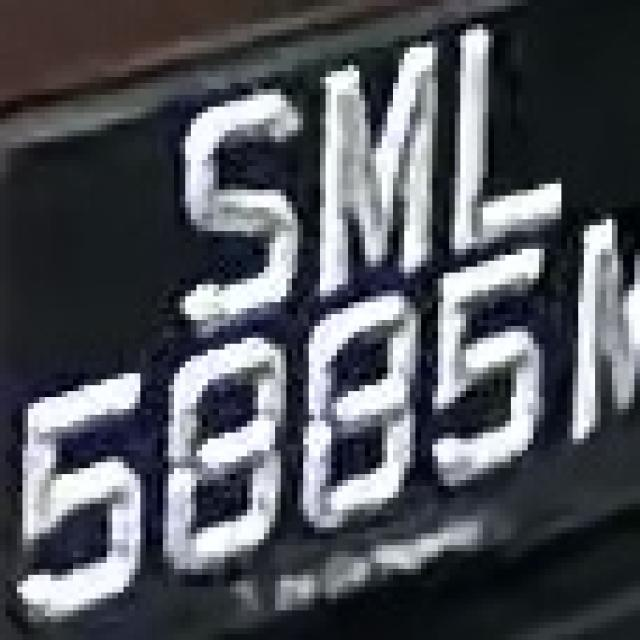5: (17, 356, 163, 616), (427, 243, 550, 498)
8: (292, 290, 438, 557), (157, 326, 292, 563)
L: (443, 18, 572, 249)
M: (303, 42, 455, 290)
S: (157, 59, 303, 326)
